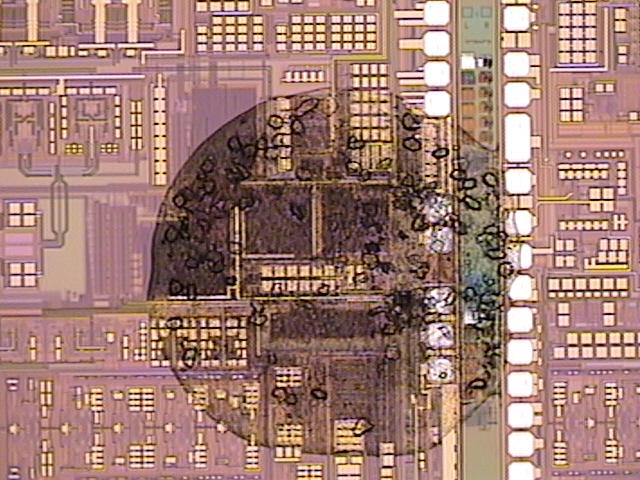PO CONTAMINATION: (136, 75, 547, 475)
